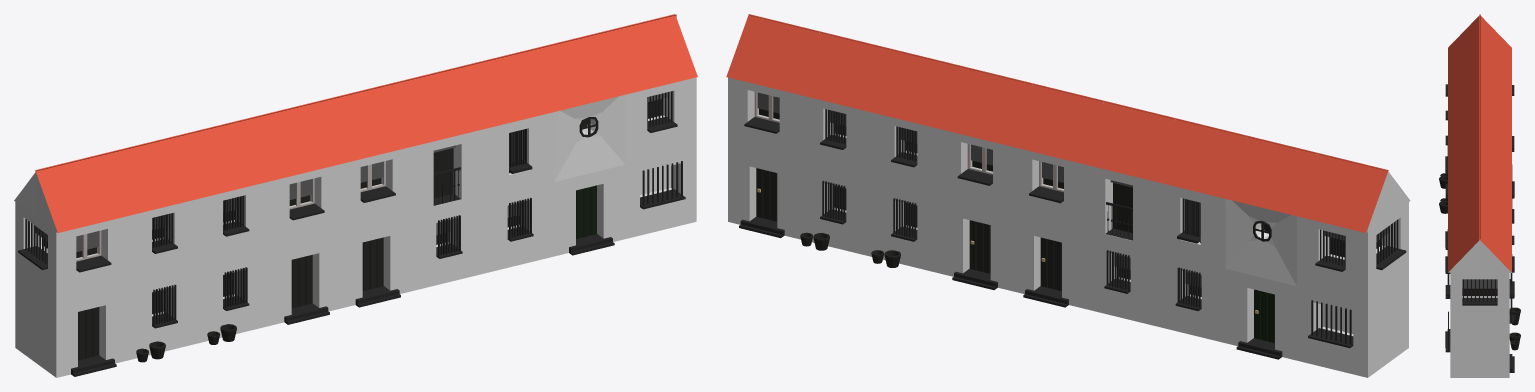
File: CasaProcedural_11.fbx
The picture shows the model from 3 angles, left to right: view 1: azimuth 30°, elevation 25°; view 2: azimuth 150°, elevation 25°; view 3: azimuth 270°, elevation 25°; orthographic projection. The views are drawn at different scales.
Visible parts, largest first — view 1: Procedural_Building; view 2: Procedural_Building; view 3: Procedural_Building.
Boxes of the visible parts, <box> form: Procedural_Building: <box>14,14,697,377</box>; Procedural_Building: <box>726,14,1410,377</box>; Procedural_Building: <box>1439,14,1520,377</box>.
Size of the model in its own units: 916 by 259 by 138.
